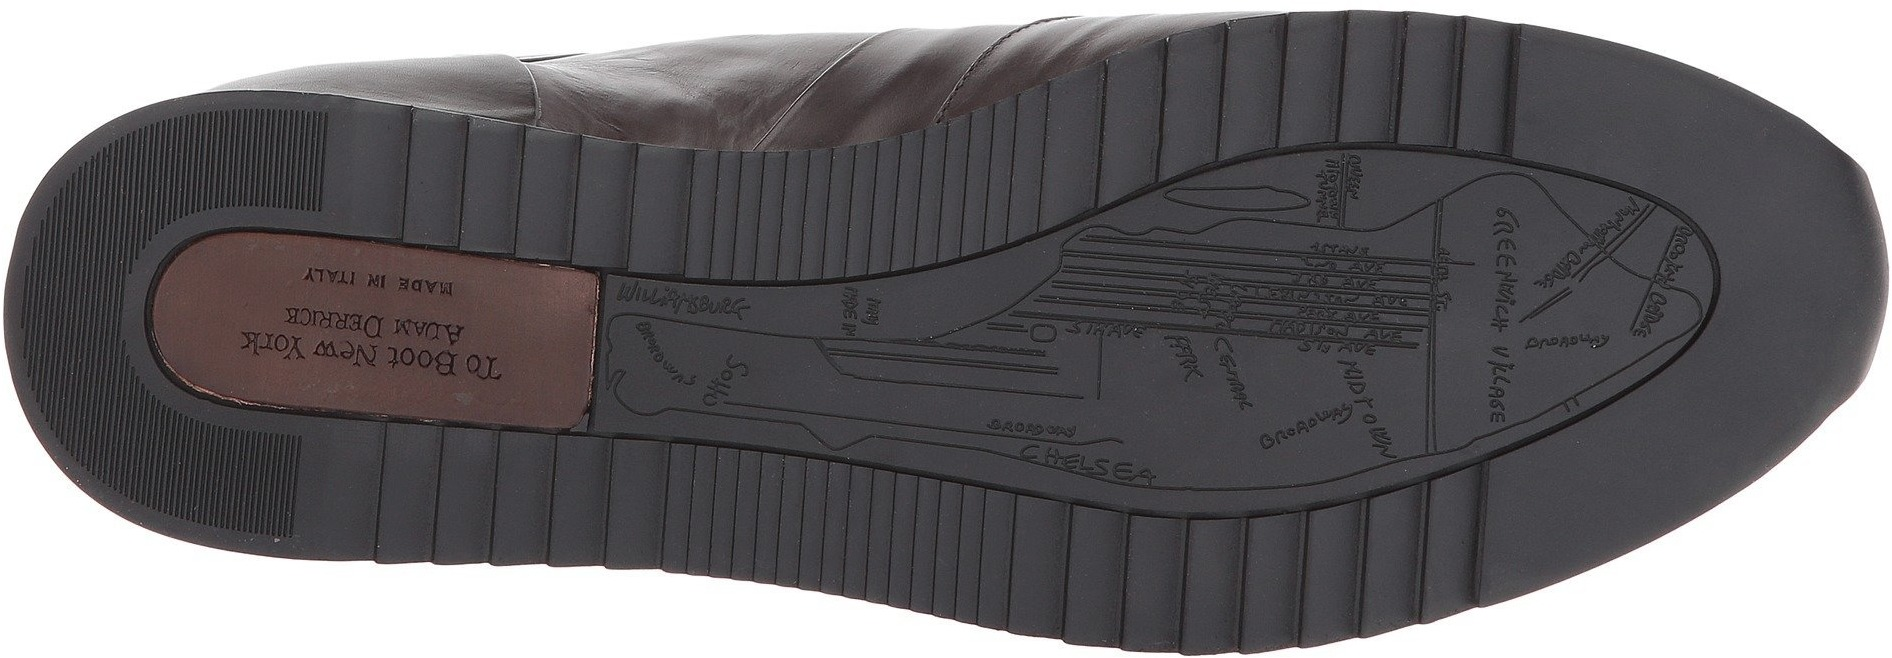other: (1712, 168, 1862, 328), (223, 105, 334, 219), (81, 396, 179, 507), (33, 227, 123, 332), (203, 444, 284, 532)
quad: (840, 464, 1006, 622), (1062, 500, 1227, 648), (1294, 493, 1452, 633), (364, 415, 510, 566), (615, 442, 761, 583), (1351, 8, 1496, 146), (697, 151, 822, 276), (881, 132, 997, 251), (1039, 78, 1148, 199)
text: (285, 252, 411, 386), (416, 310, 496, 398)
